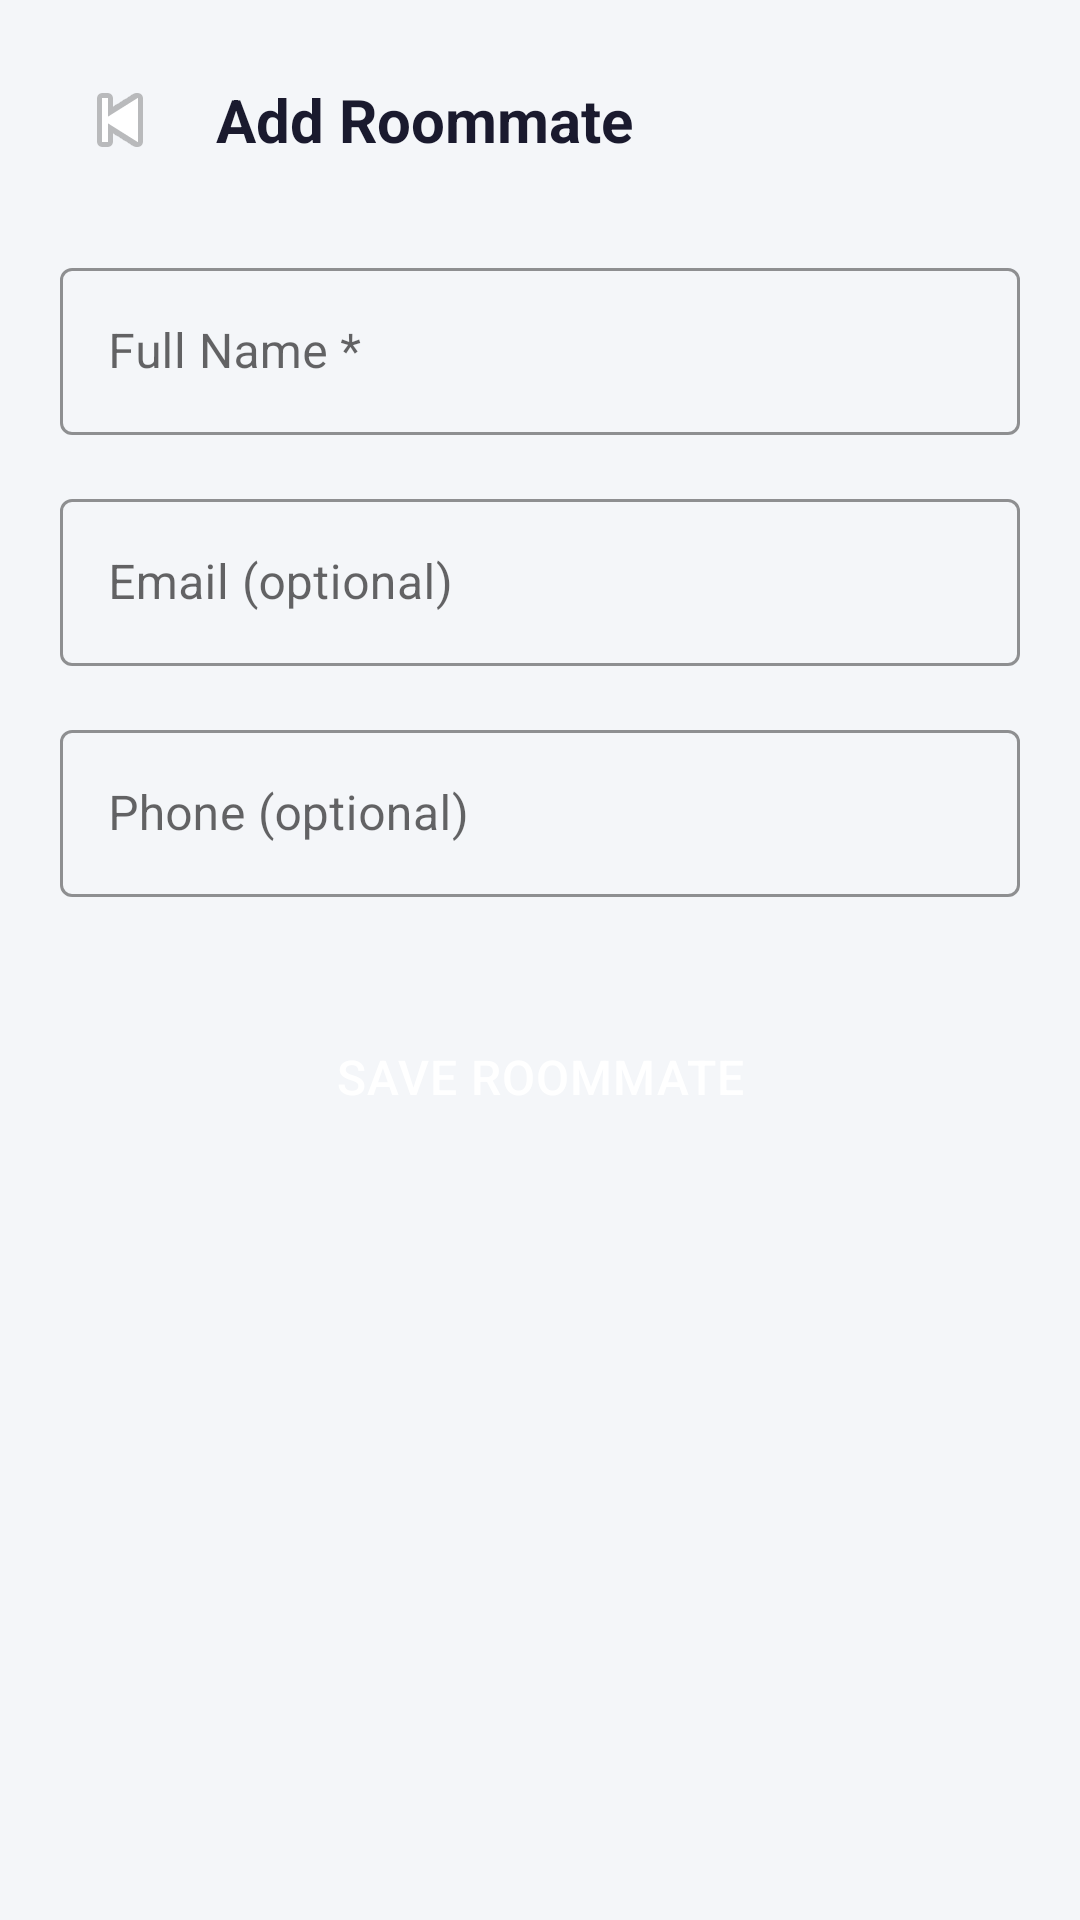

Locate icon controls on the screen. Image size 1080*1920, boxes as (x1, y1, x2, y2).
Back: (97, 93, 143, 147)
